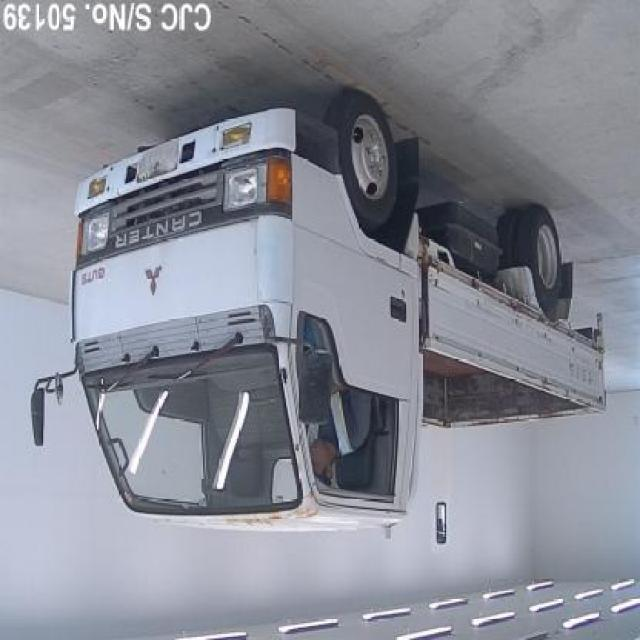truck: (30, 97, 607, 536)
